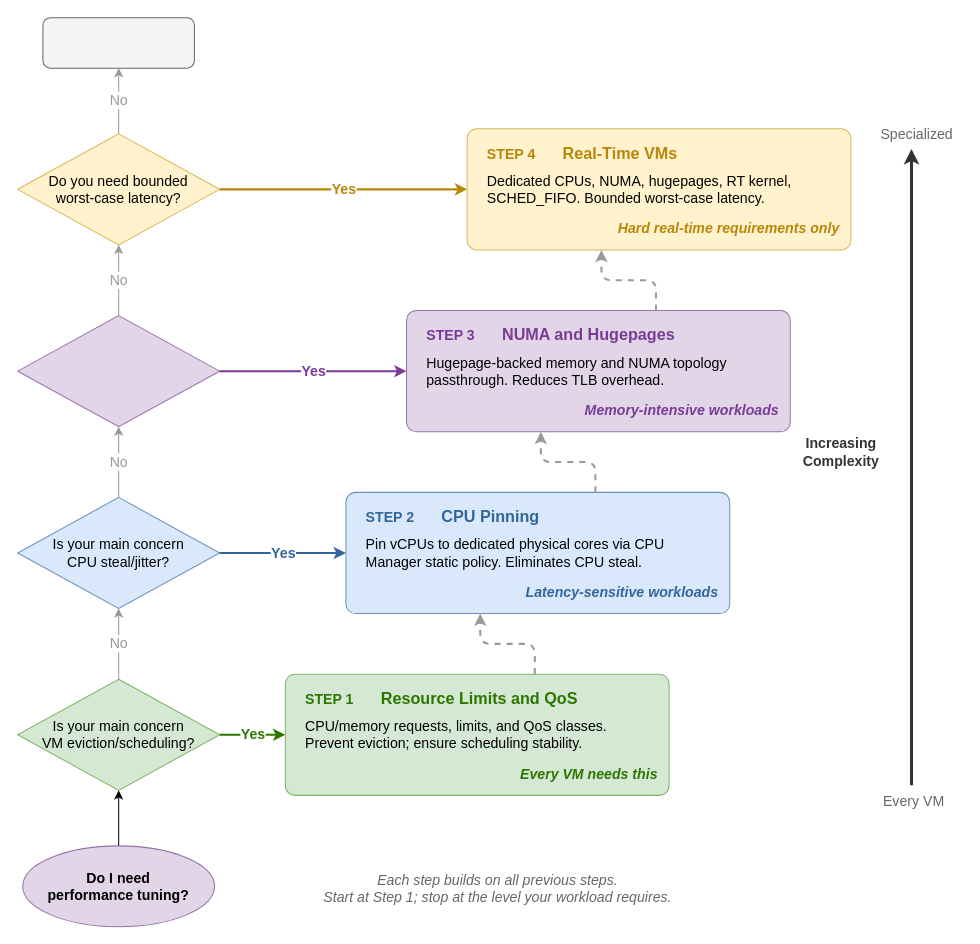
Image size: 980x944. Some labels were removed from this diagram. The centre of each missing label's shape, as x and y in pixels:
Is your main concern memory/TLB overhead?: (118,371)
No further tuning needed: (118,42)
